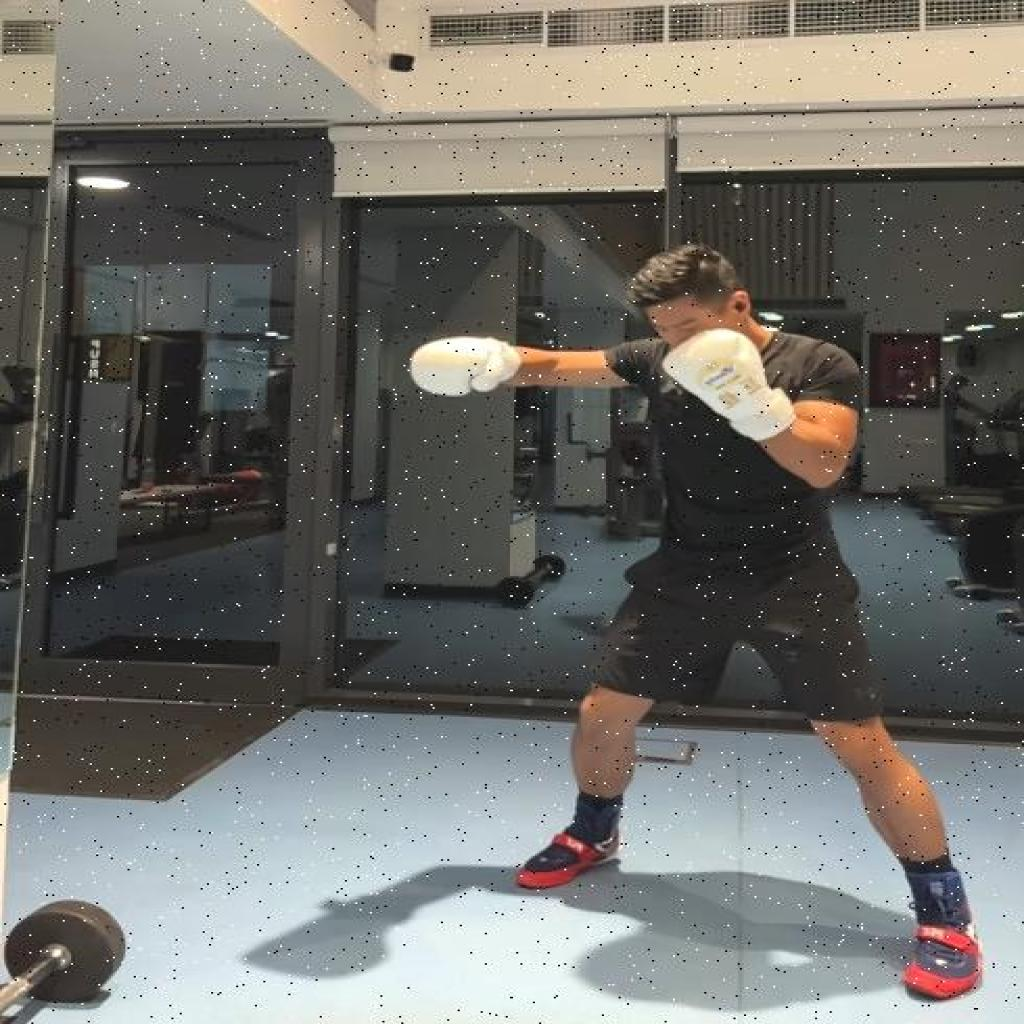hook: (412, 243, 988, 1003)
